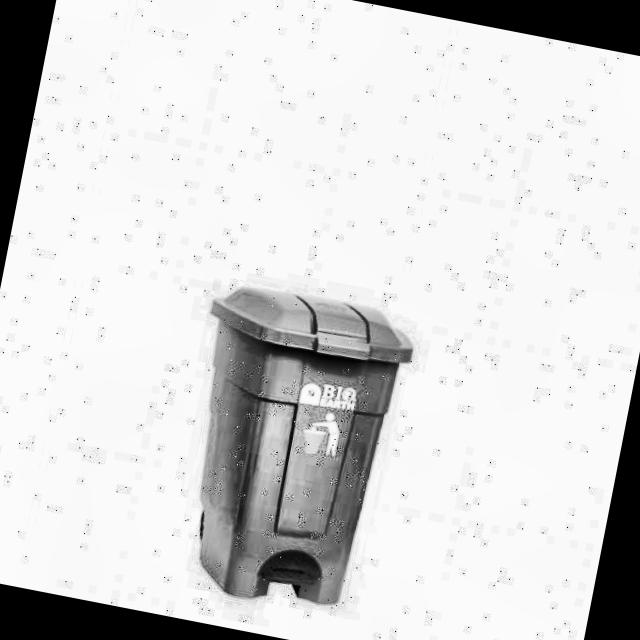Dustbin: (129, 247, 509, 640)
